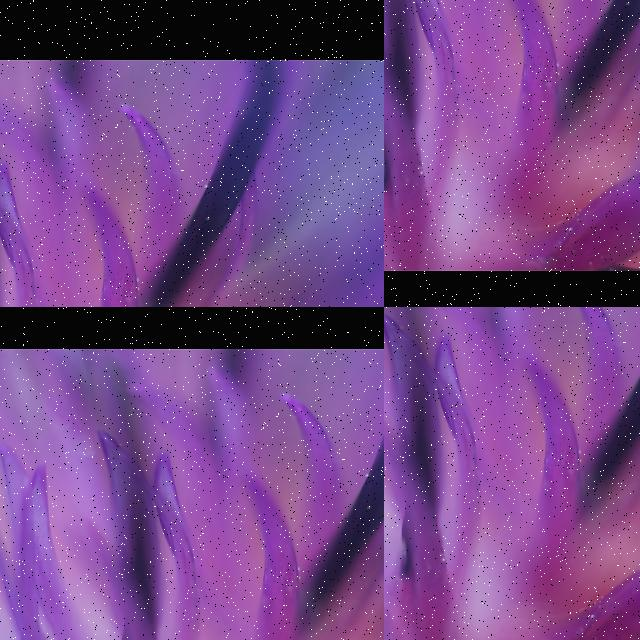flower: (108, 218, 192, 298), (499, 158, 529, 204), (214, 118, 266, 140), (450, 85, 484, 118), (130, 82, 152, 118), (150, 114, 176, 136), (121, 62, 139, 88)
